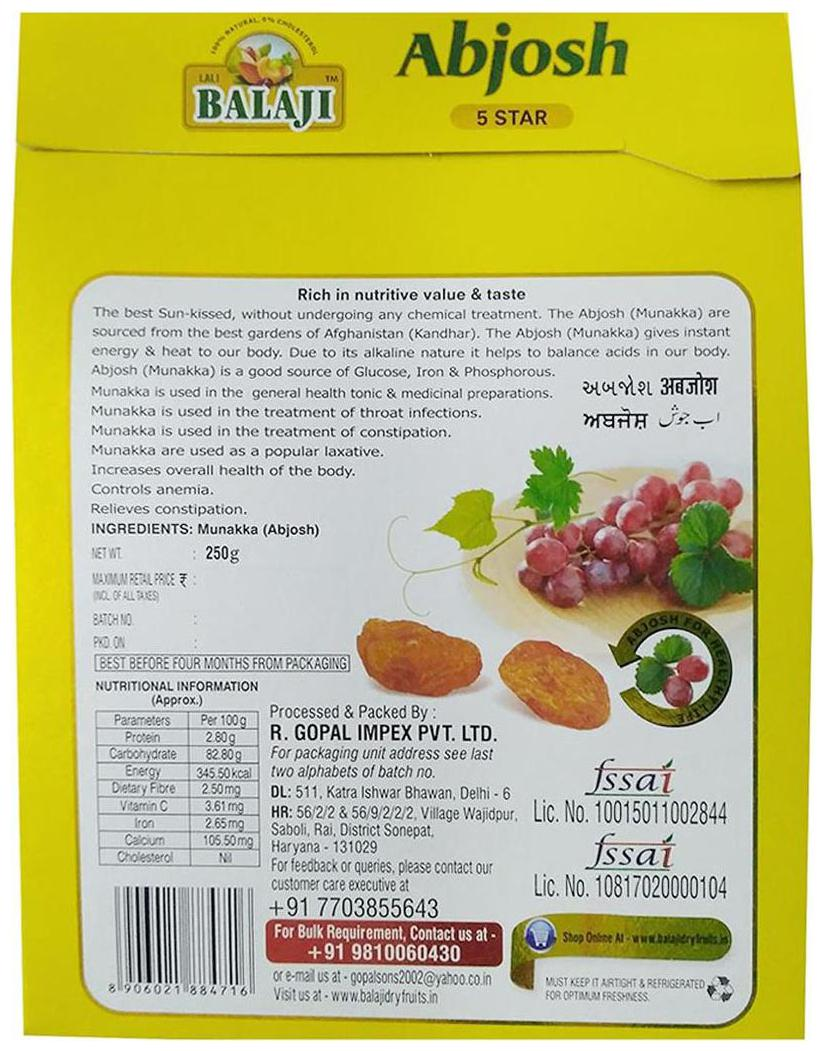fssai: (584, 756, 682, 800), (584, 830, 678, 873)
